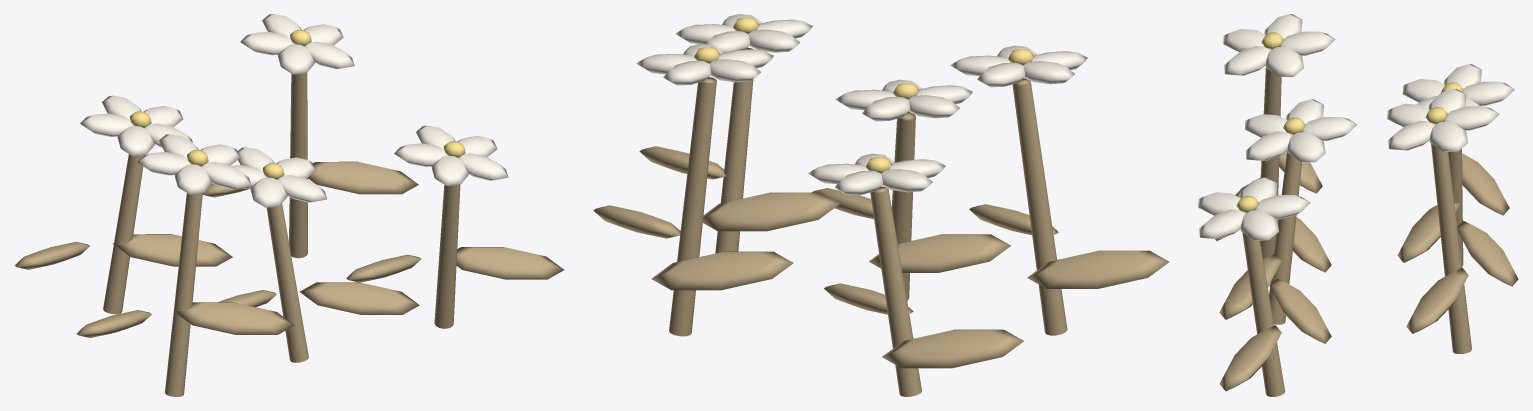
The model's file is flower_2_autumn.glb.
3 views of the same model, side by side, from view 1: azimuth 30°, elevation 25°; view 2: azimuth 150°, elevation 25°; view 3: azimuth 270°, elevation 25° (orthographic). The views are drawn at different scales.
Bounding box in the file's own units: 0.6121 × 0.3147 × 0.3599.
